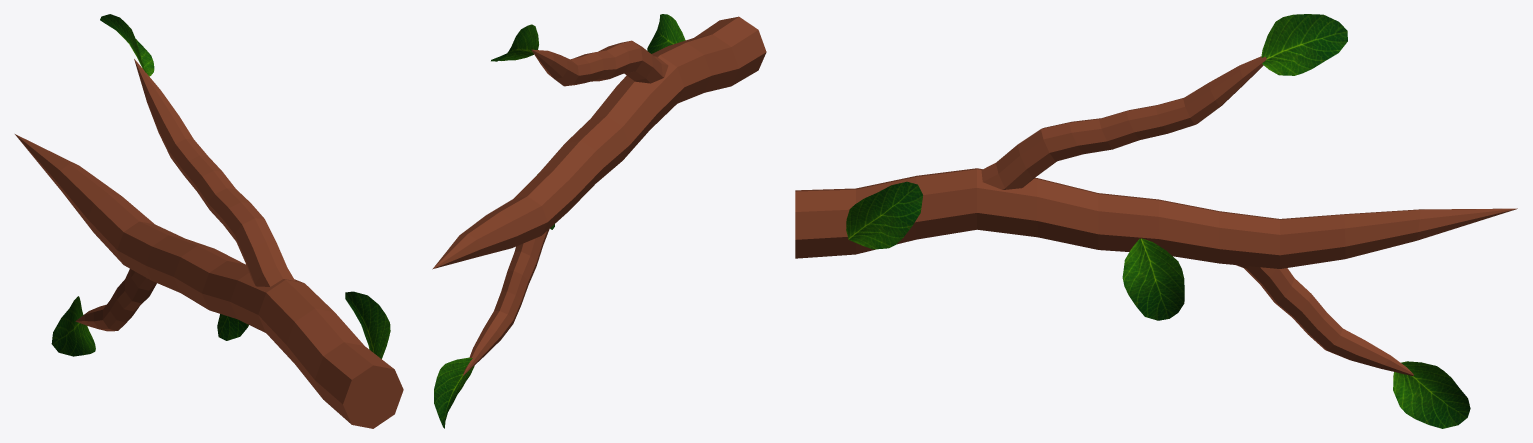
Rendered from branch_2.fbx.
3 renders of one model, left to right at view 1: azimuth 30°, elevation 25°; view 2: azimuth 150°, elevation 25°; view 3: azimuth 270°, elevation 25°, orthographic. The views are drawn at different scales.
Visible parts, largest first — view 1: Cylinder, Cylinder.001, Cylinder.002, Plane.002, Plane, Plane.003, Plane.001; view 2: Cylinder, Cylinder.001, Cylinder.002, Plane, Plane.003, Plane.002; view 3: Cylinder, Cylinder.001, Cylinder.002, Plane.003, Plane.001, Plane.002, Plane.
Part boxes in pixels (bbox=[...]): Cylinder: bbox=[15, 134, 403, 428]; Cylinder.001: bbox=[134, 59, 294, 286]; Cylinder.002: bbox=[75, 269, 156, 331]; Plane.002: bbox=[345, 291, 390, 358]; Plane: bbox=[51, 296, 95, 356]; Plane.003: bbox=[100, 14, 154, 76]; Plane.001: bbox=[217, 314, 248, 340]; Cylinder: bbox=[432, 16, 766, 269]; Cylinder.001: bbox=[531, 40, 668, 86]; Cylinder.002: bbox=[462, 229, 549, 376]; Plane: bbox=[434, 357, 474, 428]; Plane.003: bbox=[491, 24, 538, 61]; Plane.002: bbox=[647, 14, 685, 53]; Cylinder: bbox=[795, 168, 1517, 268]; Cylinder.001: bbox=[981, 56, 1266, 189]; Cylinder.002: bbox=[1236, 265, 1413, 375]; Plane.003: bbox=[1261, 14, 1347, 75]; Plane.001: bbox=[1122, 238, 1184, 320]; Plane.002: bbox=[846, 181, 922, 249]; Plane: bbox=[1393, 361, 1470, 428].
Size of the model in its own units: 25.05 by 123 by 199.
